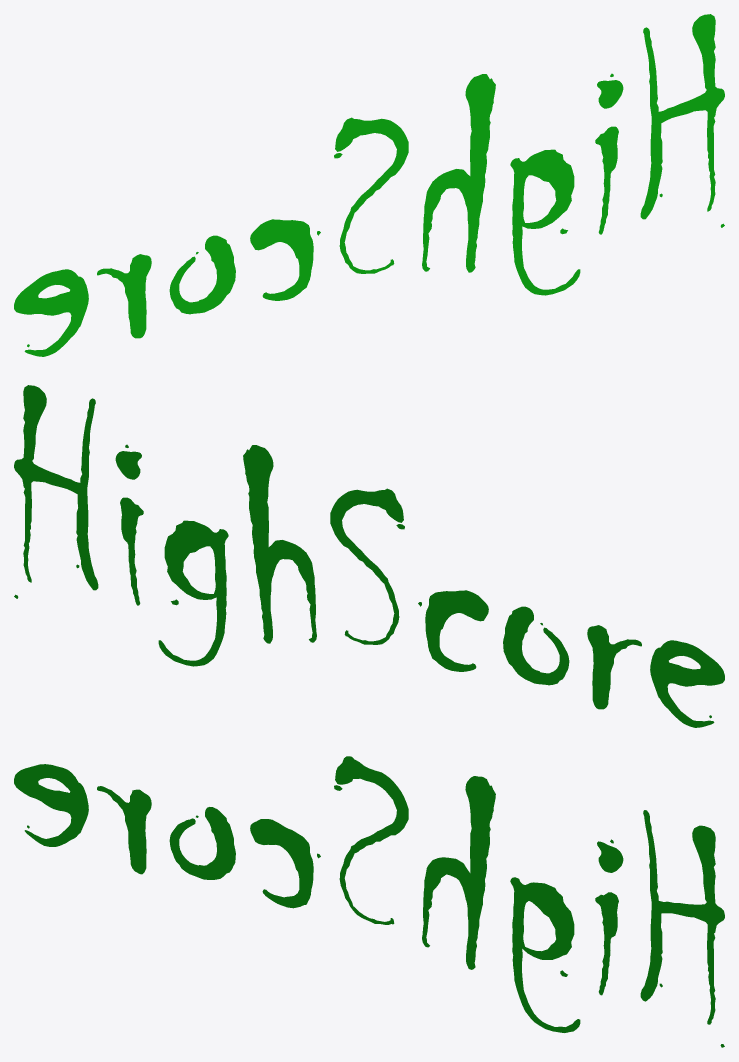
The model's file is highScoreText.obj.
3 views of the same model, one above another, from view 1: azimuth 30°, elevation 25°; view 2: azimuth 150°, elevation 25°; view 3: azimuth 330°, elevation 25° (orthographic).
Parts seen in each view (by area): view 1: highScoreText; view 2: highScoreText; view 3: highScoreText.
Boxes of the visible parts, x1=… form: highScoreText: x1=14, y1=14, x2=724, y2=356; highScoreText: x1=14, y1=385, x2=724, y2=727; highScoreText: x1=14, y1=756, x2=724, y2=1047.
Bounding box in the file's own units: 2.36 × 0.7749 × 0.
